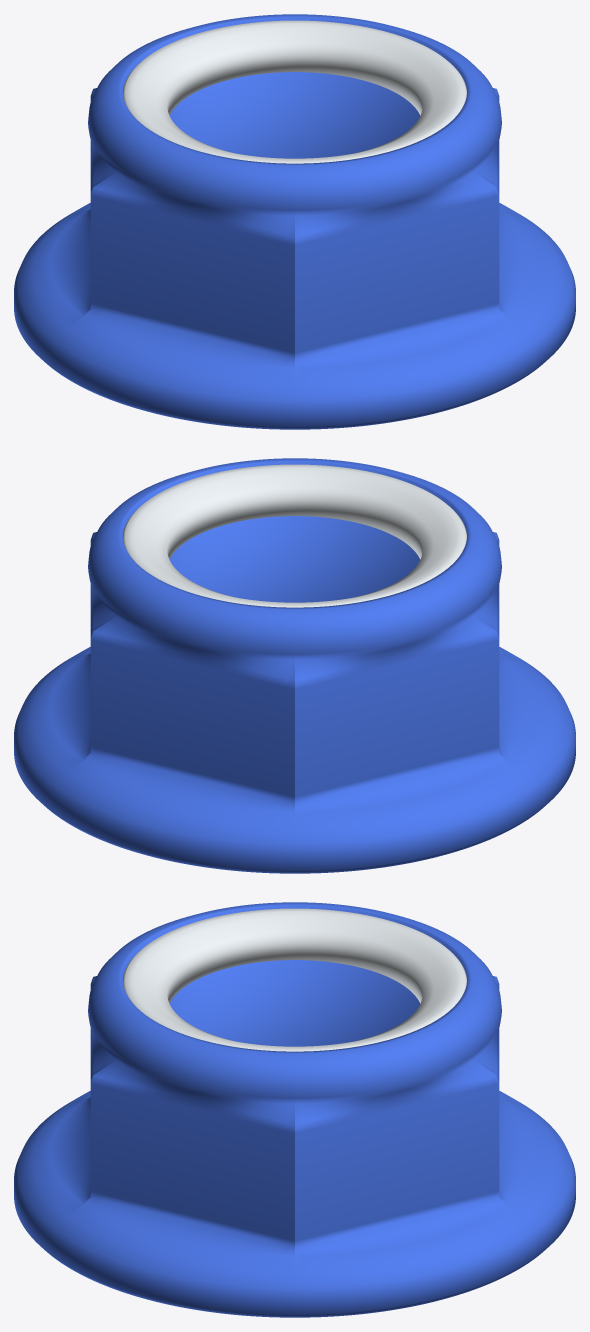
File: studio-prop-nut.glb
3 renders of one model, top to bottom at view 1: azimuth 30°, elevation 25°; view 2: azimuth 150°, elevation 25°; view 3: azimuth 270°, elevation 25°, orthographic.
Parts seen in each view (by area): view 1: Blaue Flanschmutter, Nylon-Sicherungsring; view 2: Blaue Flanschmutter, Nylon-Sicherungsring; view 3: Blaue Flanschmutter, Nylon-Sicherungsring.
Part boxes in pixels (x1,y1,x2,y2): Blaue Flanschmutter: (14,14,575,429); Nylon-Sicherungsring: (123,20,466,163); Blaue Flanschmutter: (14,458,575,873); Nylon-Sicherungsring: (123,464,466,607); Blaue Flanschmutter: (14,902,575,1317); Nylon-Sicherungsring: (123,908,466,1051).
Bounding box in the file's own units: 0.011 × 0.00486 × 0.011.
